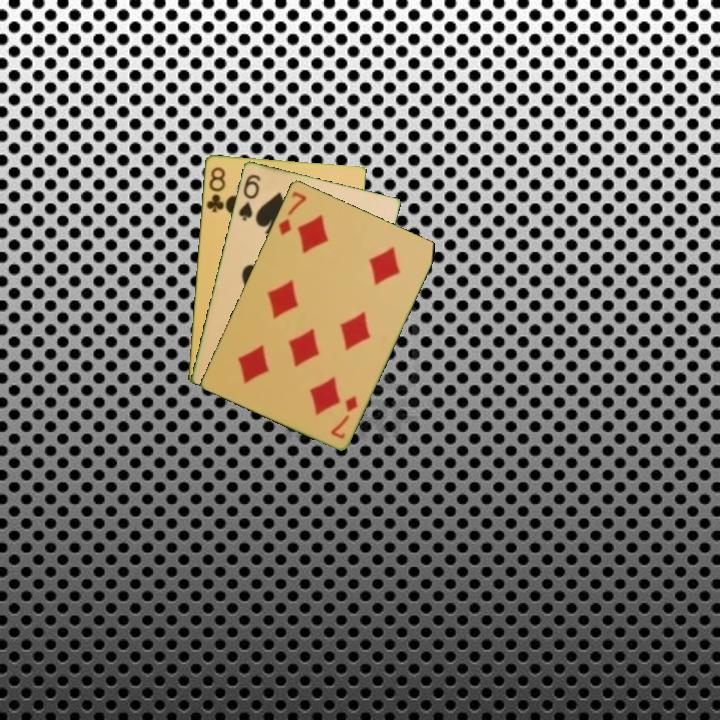6s: (235, 170, 263, 223)
7d: (275, 187, 309, 238), (327, 392, 361, 442)
8c: (203, 163, 228, 215)
